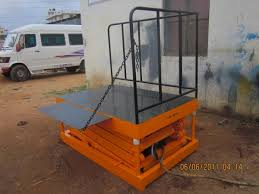Scissor Lift: (38, 6, 202, 194)
